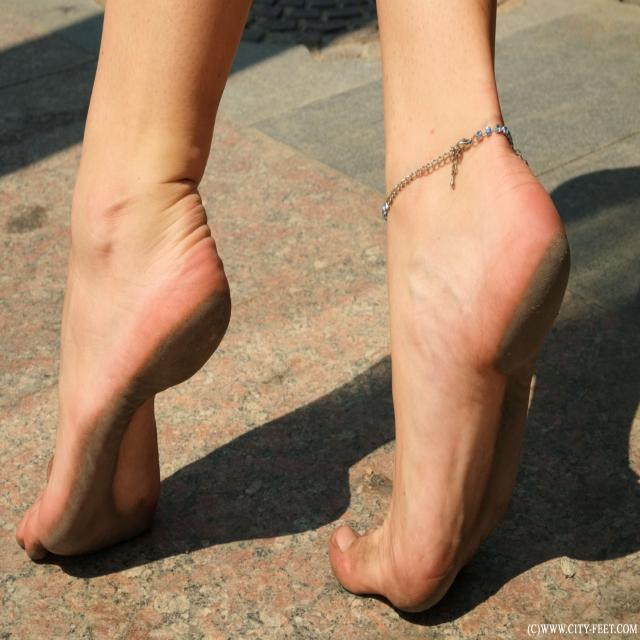Barefoots: (328, 162, 571, 614), (16, 209, 232, 562)
